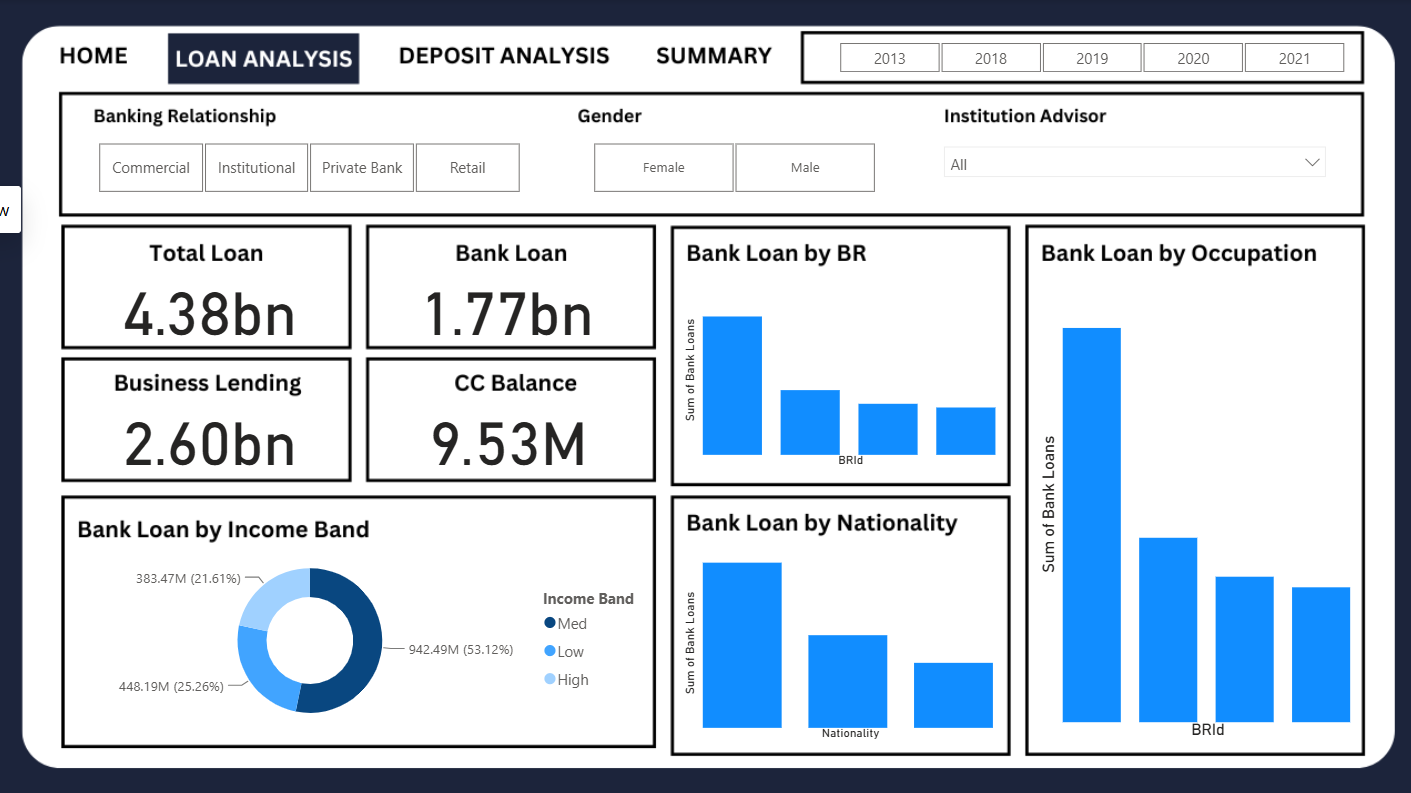

The page's visual inventory and layout, read from the dashboard file:
{"tool":"powerbi","page":{"name":"Loan Analysis","canvas":[1280,720],"ordinal":1},"visuals":[{"type":"slicer","fields":{"Values":["banking_case customer.Year of Joining"]},"box":[733.3,32.2,504.1,34.9],"z":0},{"type":"actionButton","box":[36.4,31.7,99.7,39.6],"z":1000},{"type":"actionButton","box":[348.2,31.7,221.6,39.6],"z":2000},{"type":"actionButton","box":[587.1,31.7,123.4,39.6],"z":3000},{"type":"card","fields":{"Values":["banking_case customer.Total Loan"]},"box":[100.9,243.7,179.5,65.5],"z":4000},{"type":"card","fields":{"Values":["Sum(banking_case customer.Bank Loans)"]},"box":[369.5,243.7,179.5,65.5],"z":5000},{"type":"card","fields":{"Values":["Sum(banking_case customer.Business Lending)"]},"box":[100.9,360.4,179.5,65.5],"z":6000},{"type":"card","fields":{"Values":["Sum(banking_case customer.Credit Card Balance)"]},"box":[370.8,360.4,179.5,65.5],"z":7000},{"type":"donutChart","fields":{"Category":["banking_case customer.Income Band"],"Y":["Sum(banking_case customer.Bank Loans)"]},"box":[66.8,488.8,530.7,176.9],"z":8000},{"type":"clusteredColumnChart","fields":{"Category":["banking_case customer.BRId"],"Y":["Sum(banking_case customer.Bank Loans)"]},"box":[613.3,243.7,293.5,182.1],"z":9000},{"type":"clusteredColumnChart","fields":{"Category":["banking_case customer.Nationality"],"Y":["Sum(banking_case customer.Bank Loans)"]},"box":[613.3,488.8,293.5,182.1],"z":10000},{"type":"clusteredColumnChart","fields":{"Category":["banking_case customer.BRId"],"Y":["Sum(banking_case customer.Bank Loans)"]},"box":[933.7,245.3,292.8,425.7],"z":11000},{"type":"slicer","fields":{"Values":["banking_case customer.BRId"]},"box":[66.8,123.2,428.5,57.7],"z":12000},{"type":"slicer","fields":{"Values":["banking_case customer.GenderId"]},"box":[512.4,123.2,302.7,57.7],"z":13000},{"type":"slicer","fields":{"Values":["banking_case customer.IAId"]},"box":[843.9,123.2,364.3,57.7],"z":14000}]}

Visuals, with their boxes in screenshot pixels (x1, y1, x2, y2), scaled from the page's 1280x720 canvas onto the 1411x793 screenshot:
slicer - banking_case customer.Year of Joining: box=[808, 35, 1364, 74]
actionButton: box=[40, 35, 150, 79]
actionButton: box=[384, 35, 628, 79]
actionButton: box=[647, 35, 783, 79]
card - banking_case customer.Total Loan: box=[111, 268, 309, 341]
card - Sum(banking_case customer.Bank Loans): box=[407, 268, 605, 341]
card - Sum(banking_case customer.Business Lending): box=[111, 397, 309, 469]
card - Sum(banking_case customer.Credit Card Balance): box=[409, 397, 607, 469]
donutChart - banking_case customer.Income Band x Sum(banking_case customer.Bank Loans): box=[74, 538, 659, 733]
clusteredColumnChart - banking_case customer.BRId x Sum(banking_case customer.Bank Loans): box=[676, 268, 1000, 469]
clusteredColumnChart - banking_case customer.Nationality x Sum(banking_case customer.Bank Loans): box=[676, 538, 1000, 739]
clusteredColumnChart - banking_case customer.BRId x Sum(banking_case customer.Bank Loans): box=[1029, 270, 1352, 739]
slicer - banking_case customer.BRId: box=[74, 136, 546, 199]
slicer - banking_case customer.GenderId: box=[565, 136, 899, 199]
slicer - banking_case customer.IAId: box=[930, 136, 1332, 199]
